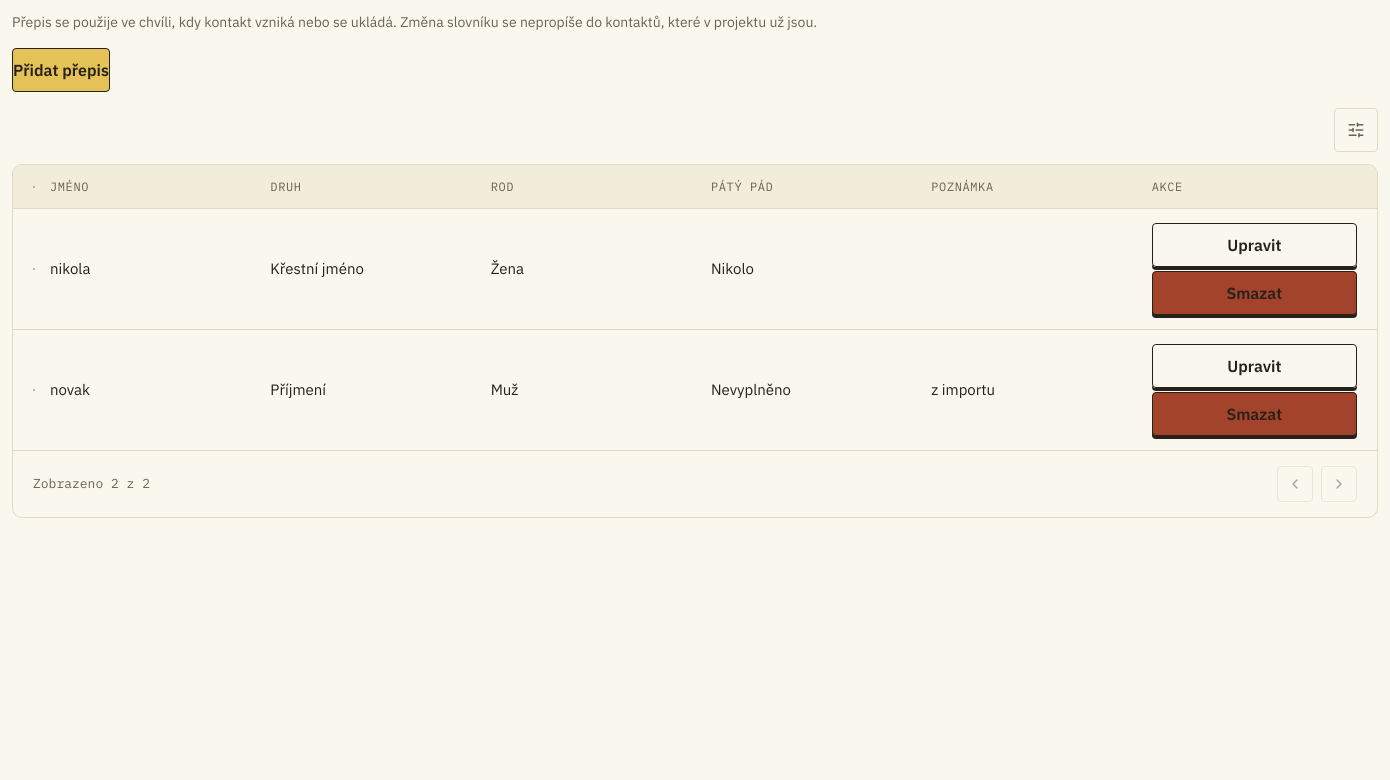
Test: hromadné mazání přepisů › výběr vede k akci, ne jen k počtu
The image size is (1390, 780).
Click the 1st checkbox named "Jméno". click: (34, 269)
box: [33,268,35,270]
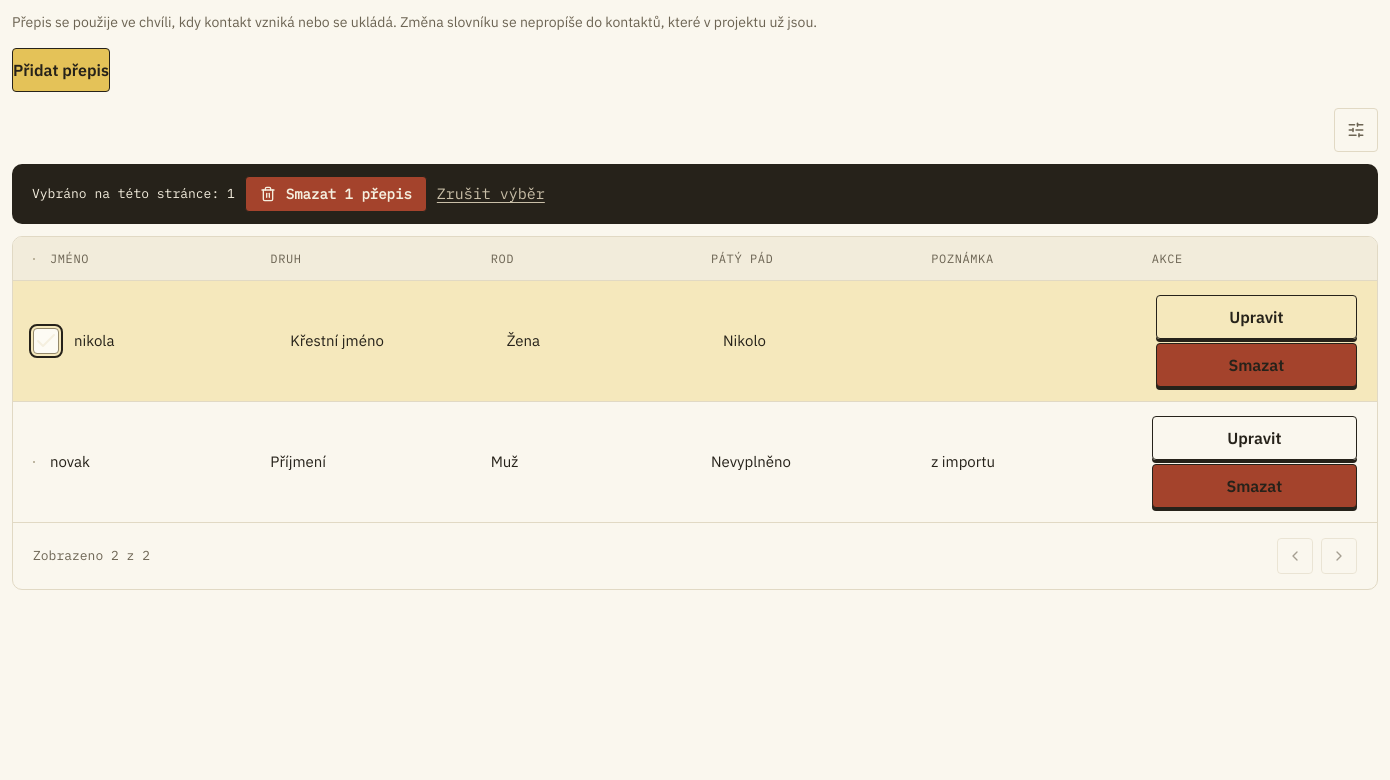
Expected: the element with test id "selection-bar" is shown, [12,164,1378,224]
Expected: the button with test id "name-overrides-bulk-delete" reads "Smazat 1 přepis", [245,176,427,212]
